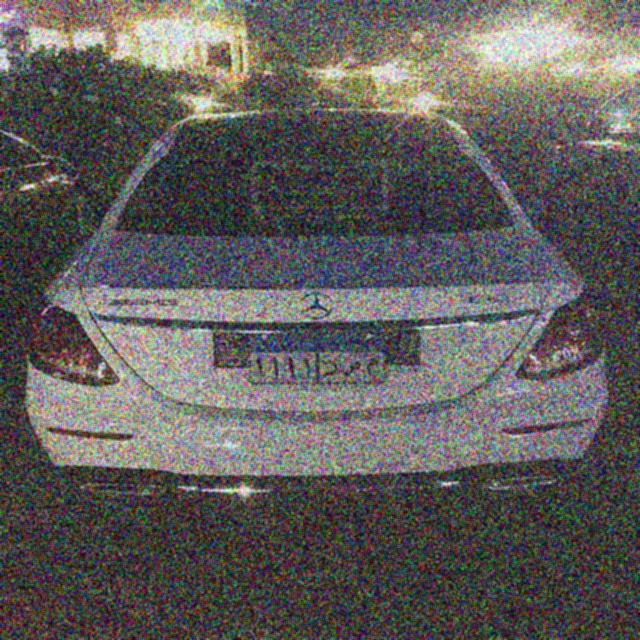License Plate: (246, 329, 389, 387)
